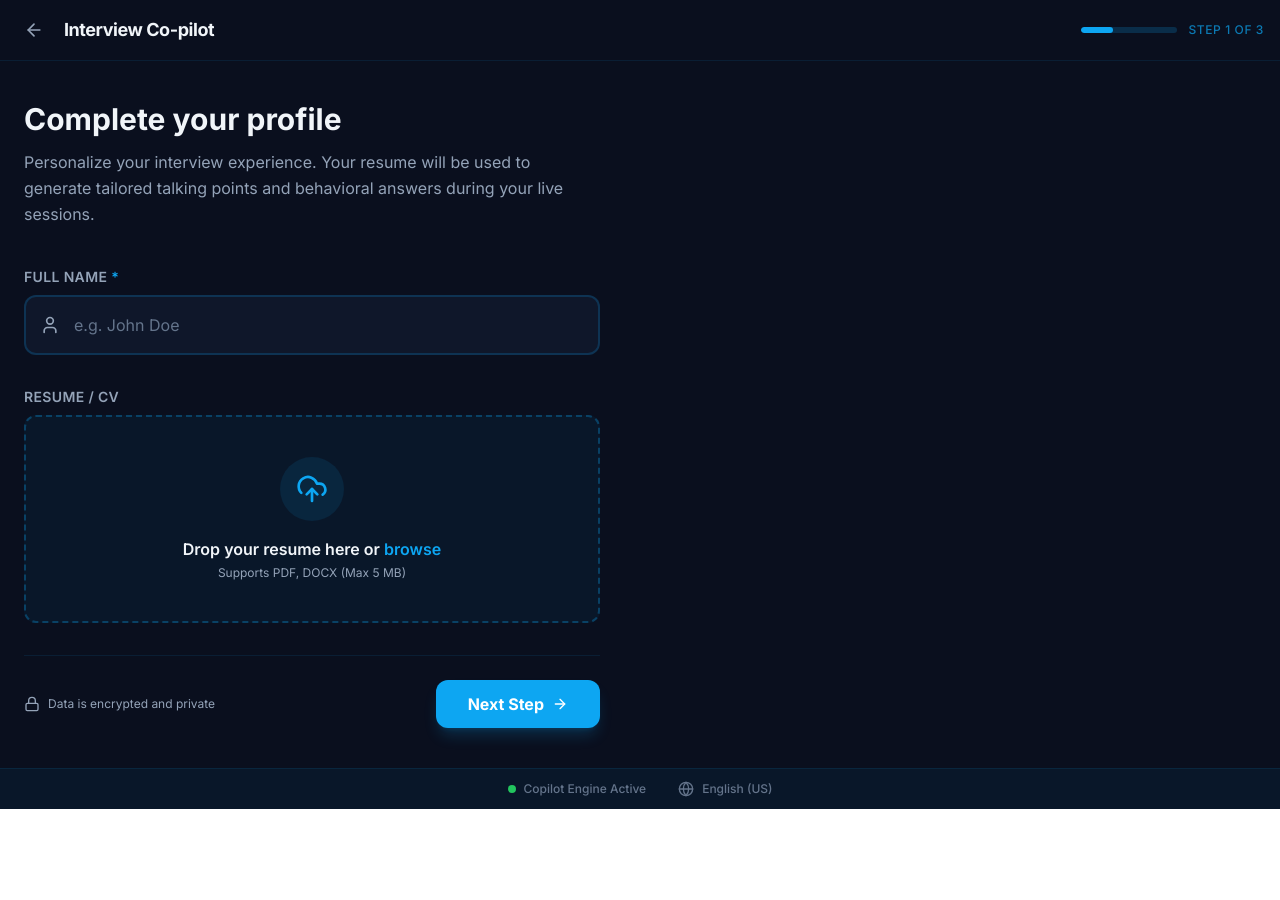
Test: OnboardingScreen › shows a validation error when Next Step is clicked with empty name
What coordinates should you click on to do the following:
click the button "Next Step"
I would click on:
 (518, 704)
Its box is [436,680,600,728].
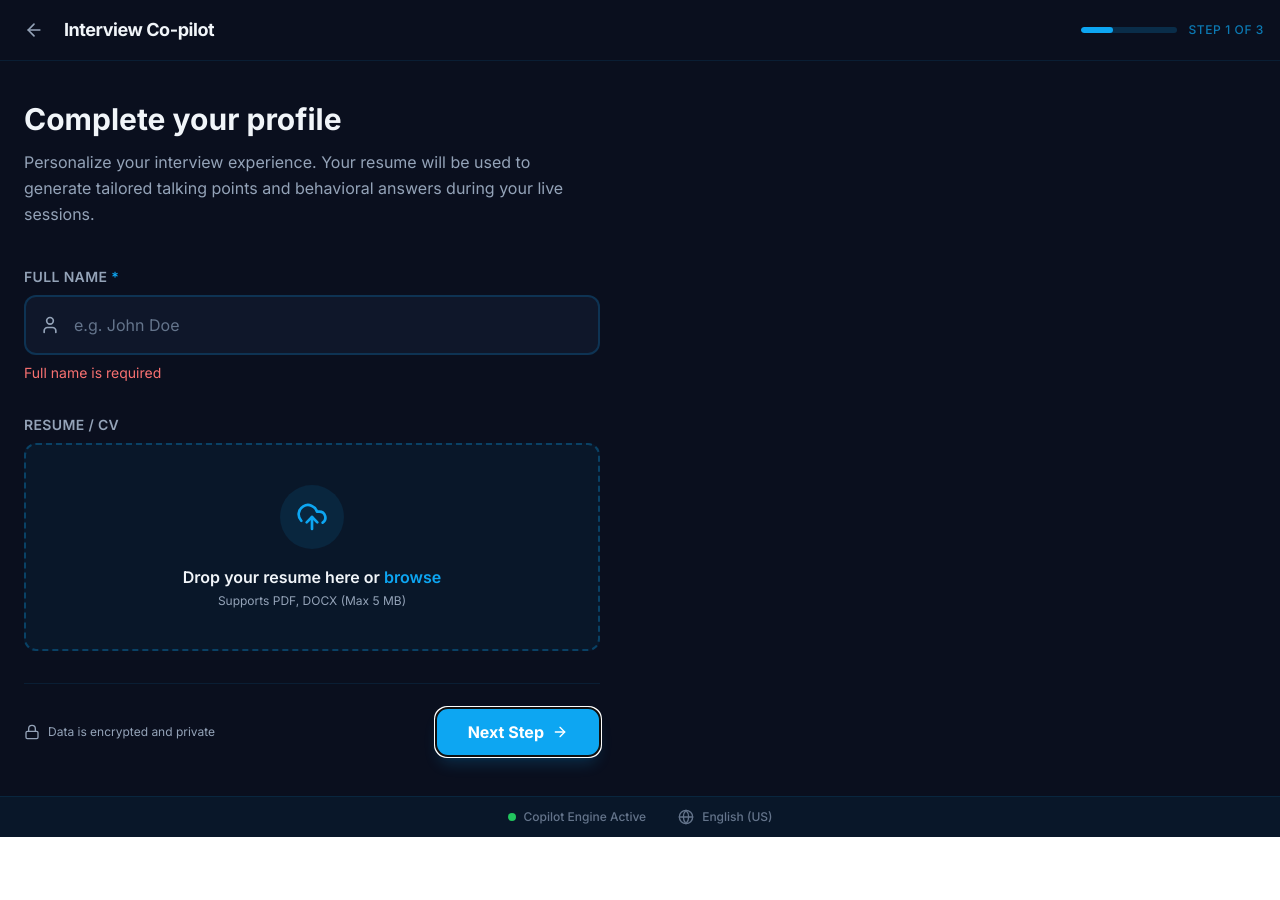
expect the message "Full name is required" is shown: met, box [24,364,161,381]
